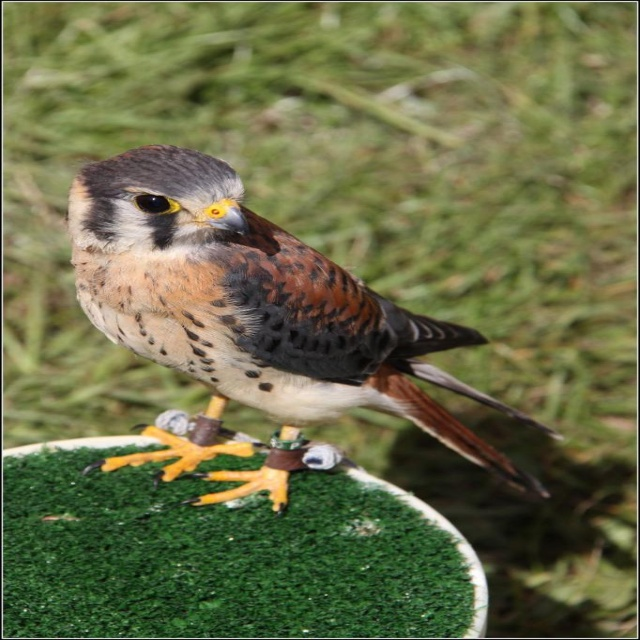Sparrow: (78, 142, 569, 518)
